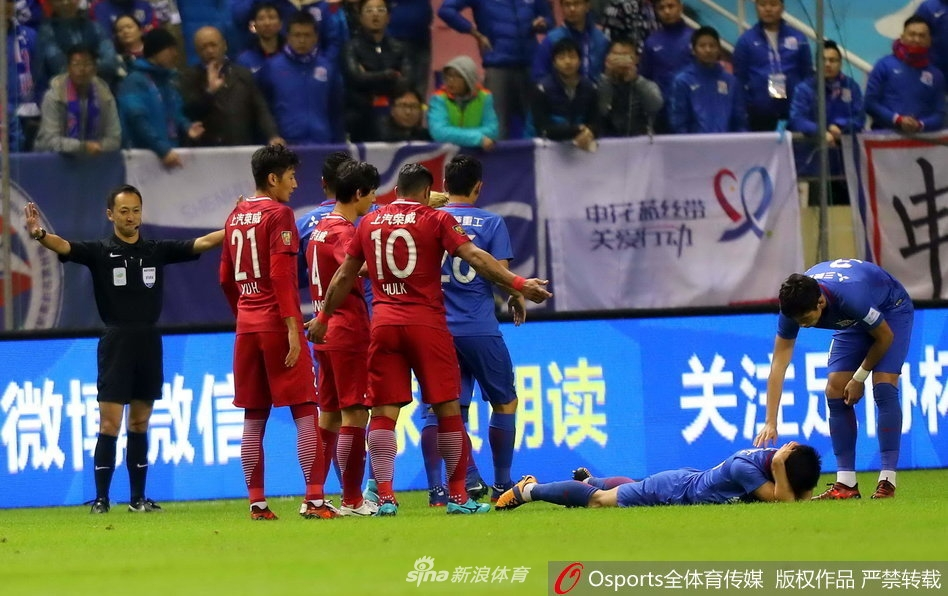10+: (1, 1, 944, 522)
down: (502, 425, 827, 516)
